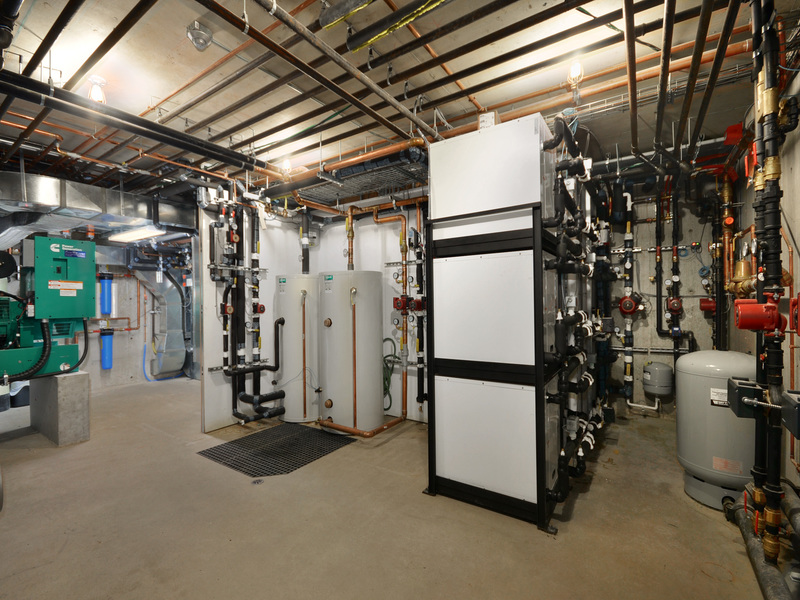valve: (750, 142, 790, 189), (741, 152, 764, 200), (621, 355, 638, 388), (396, 334, 408, 369), (410, 336, 426, 361), (669, 241, 684, 266), (293, 225, 310, 247), (341, 215, 356, 239), (396, 230, 408, 253), (622, 218, 633, 241), (652, 243, 663, 262), (216, 206, 225, 223)
